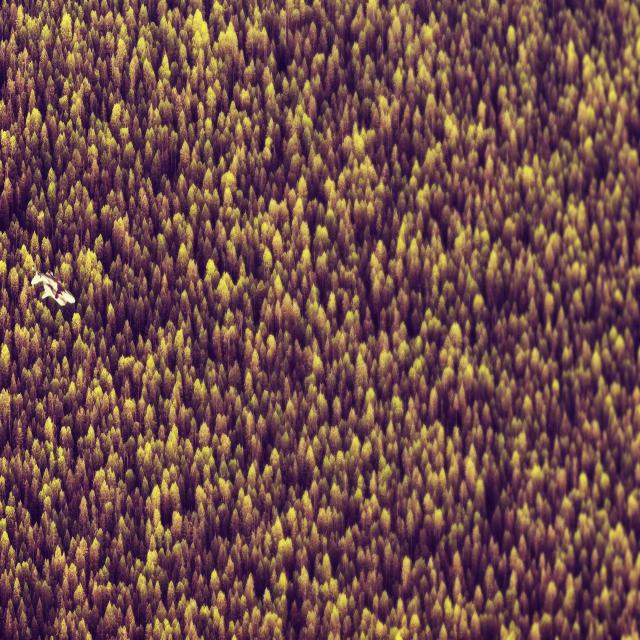airplane: (30, 268, 76, 308)
